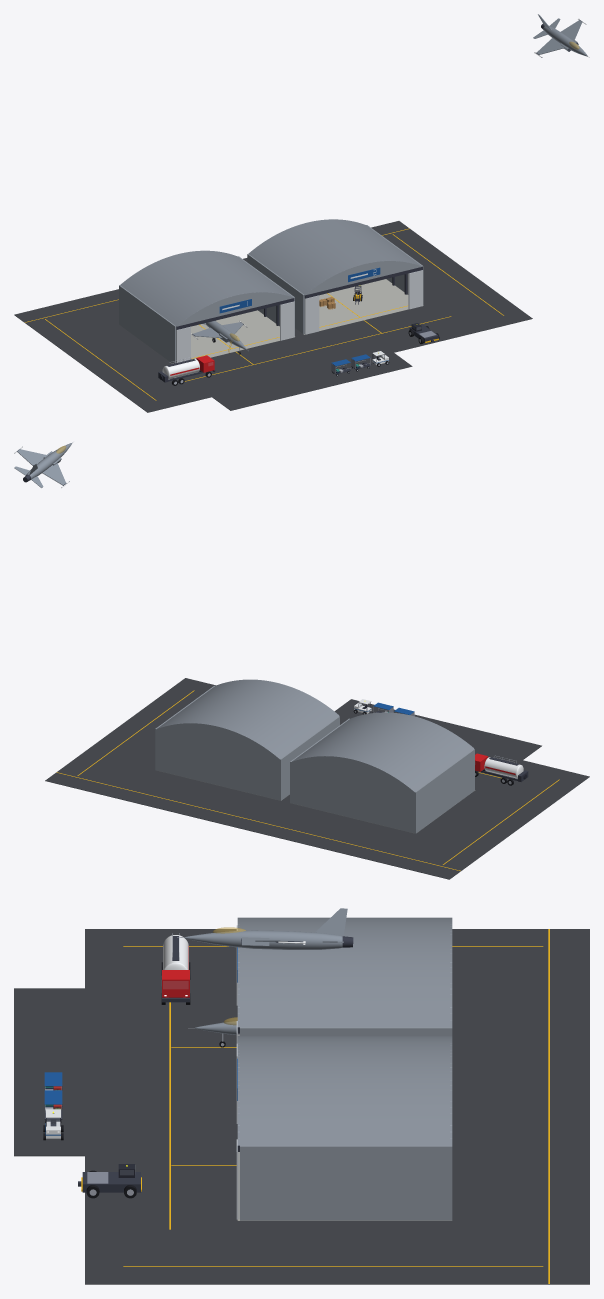
File: air-002.glb
3 renders of one model, top to bottom at view 1: azimuth 30°, elevation 25°; view 2: azimuth 150°, elevation 25°; view 3: azimuth 270°, elevation 25°, orthographic. The views are drawn at different scales.
Visible parts, largest first — view 1: apron_asphalt, hangar_roof, hangar_cladding, hangar_concrete, counter_panel, dark_steel, jet_grey, safety_yellow, white, airline_blue; view 2: apron_asphalt, hangar_cladding, hangar_roof, jet_grey, safety_yellow, white; view 3: apron_asphalt, hangar_roof, hangar_cladding, jet_grey, safety_yellow, dark_steel, white, accent_red, airline_blue, counter_panel, rubber.
Part boxes in pixels (x1,y1,x2,y2): apron_asphalt: [14, 221, 532, 412]; hangar_roof: [120, 219, 421, 326]; hangar_cladding: [119, 219, 423, 363]; hangar_concrete: [120, 279, 408, 359]; counter_panel: [176, 270, 423, 362]; dark_steel: [158, 24, 544, 382]; jet_grey: [193, 14, 587, 349]; safety_yellow: [25, 228, 503, 400]; white: [162, 18, 585, 379]; airline_blue: [219, 267, 388, 366]; apron_asphalt: [45, 678, 589, 879]; hangar_cladding: [155, 682, 474, 833]; hangar_roof: [157, 679, 473, 791]; jet_grey: [14, 442, 72, 487]; safety_yellow: [56, 690, 559, 870]; white: [14, 447, 523, 778]; apron_asphalt: [14, 929, 589, 1284]; hangar_roof: [237, 917, 452, 1145]; hangar_cladding: [237, 924, 452, 1220]; jet_grey: [184, 908, 347, 1035]; safety_yellow: [81, 929, 549, 1283]; dark_steel: [44, 936, 353, 1192]; white: [46, 935, 305, 1138]; accent_red: [162, 946, 189, 997]; airline_blue: [44, 947, 237, 1135]; counter_panel: [236, 925, 239, 1219]; rubber: [43, 962, 225, 1198].
Bounding box in the file's own units: 91.6 × 42.12 × 49.38.
